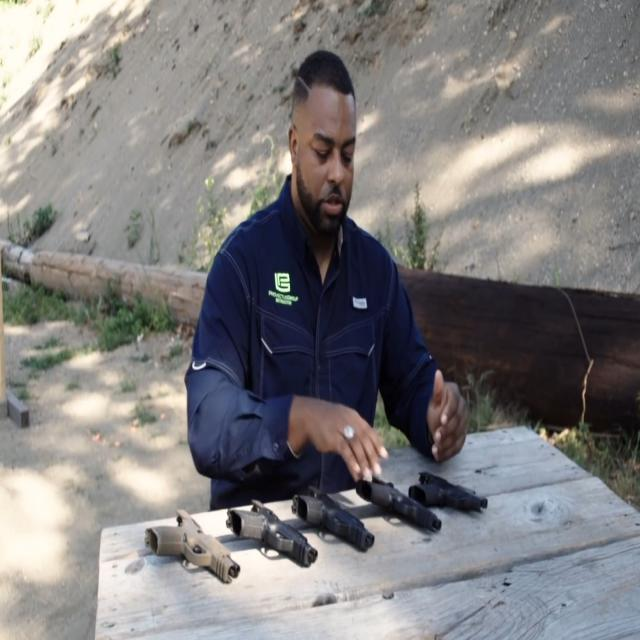handgun: (146, 490, 241, 590), (289, 445, 376, 551), (225, 490, 327, 576), (349, 465, 445, 546), (406, 450, 503, 520)
